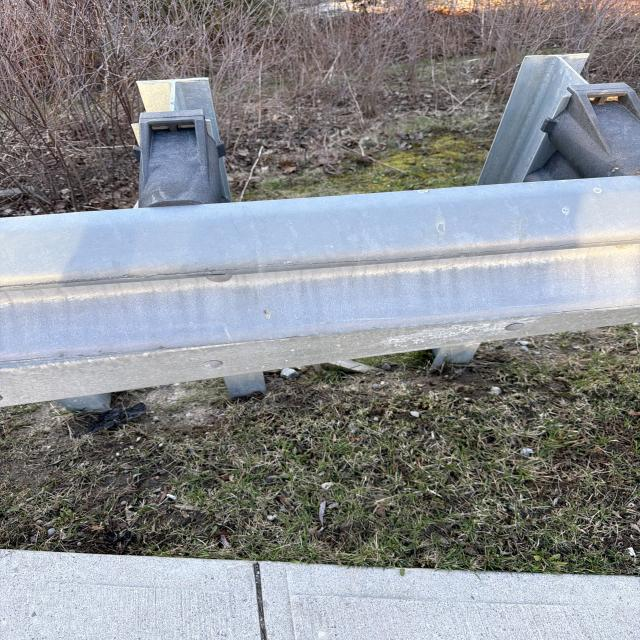Guard rail: (28, 186, 640, 366), (476, 58, 637, 182)
